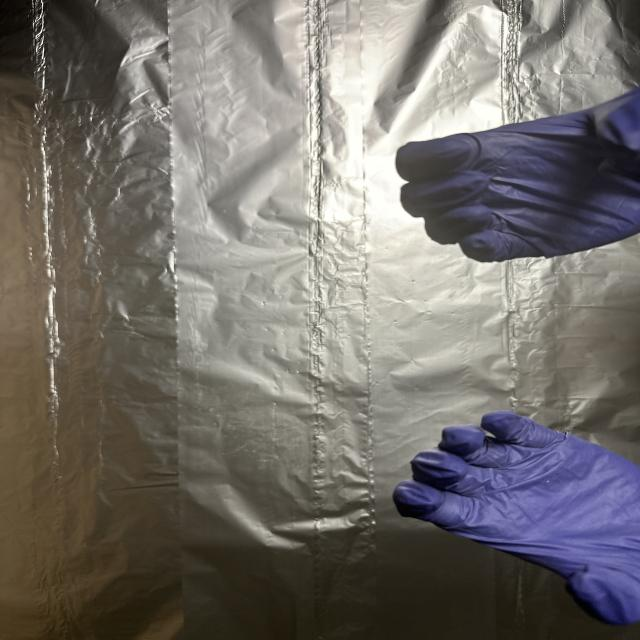gloves_contaminated: (393, 411, 640, 624), (396, 88, 640, 262)
